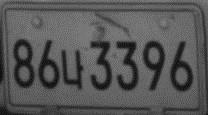3: (115, 40, 139, 90), (89, 40, 112, 90)
6: (169, 40, 194, 91), (37, 38, 60, 89)
8: (12, 38, 35, 89)
9: (142, 40, 165, 90)
나: (60, 48, 84, 90)
